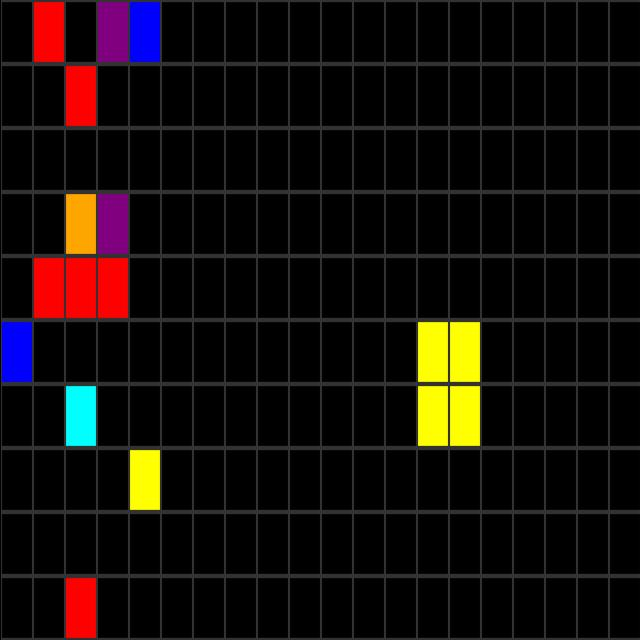Tetrimino_O: (419, 325, 478, 443)
